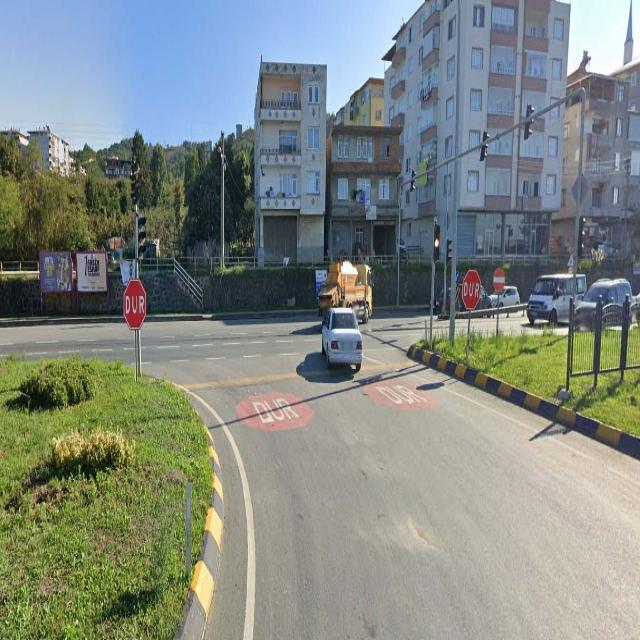dur: (123, 281, 146, 330), (463, 267, 479, 309)
girisyok: (492, 266, 505, 292)
sari: (434, 224, 439, 260)
